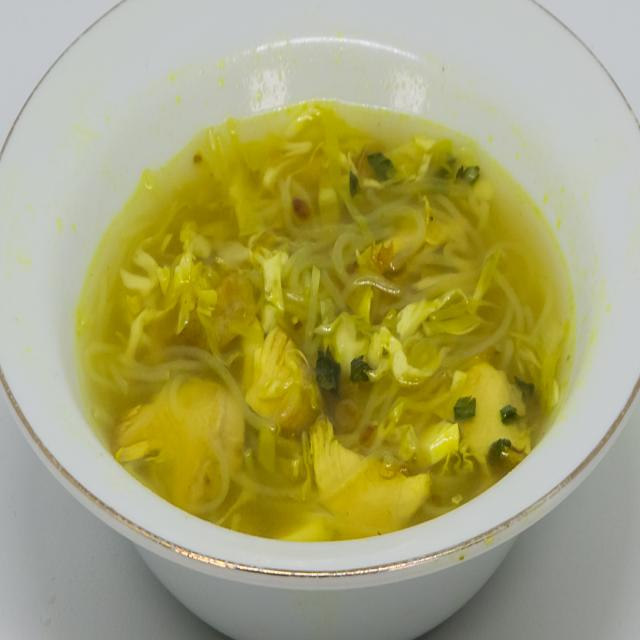Soto-Lamongan: (61, 73, 580, 552)
